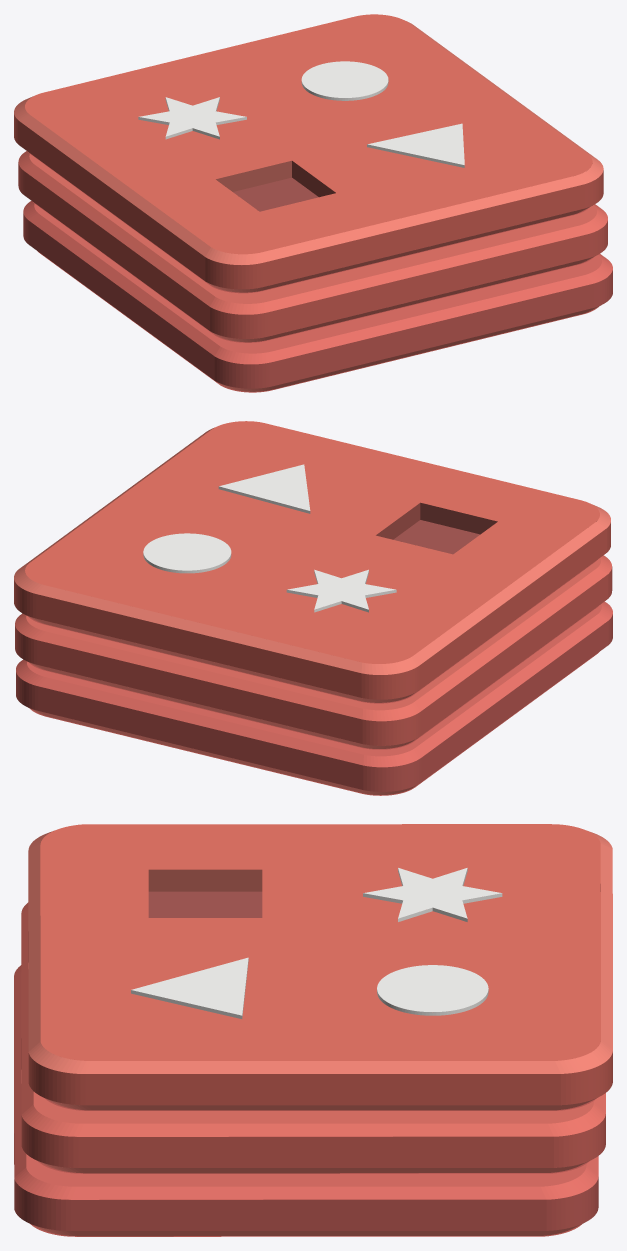
Rendered from redis.glb.
The picture shows the model from 3 angles, top to bottom: view 1: azimuth 30°, elevation 25°; view 2: azimuth 150°, elevation 25°; view 3: azimuth 270°, elevation 25°; orthographic projection. The views are drawn at different scales.
Parts seen in each view (by area): view 1: layer_03_top_top_face_cutout, layer_02_middle_vertical_wall, layer_03_top_vertical_wall, layer_01_bottom_vertical_wall, layer_02_middle_top_chamfer, layer_01_bottom_top_chamfer, layer_03_top_top_chamfer, circle_ivory_face, layer_01_bottom_bottom_chamfer, layer_01_bottom_underneath, layer_03_top_recess_bottom, layer_03_top_recess_wall_0 (+2 smaller); view 2: layer_03_top_top_face_cutout, layer_02_middle_vertical_wall, layer_01_bottom_vertical_wall, layer_03_top_vertical_wall, layer_02_middle_top_chamfer, layer_01_bottom_top_chamfer, layer_03_top_top_chamfer, circle_ivory_face, layer_01_bottom_bottom_chamfer, layer_01_bottom_underneath, layer_03_top_recess_bottom, layer_03_top_recess_wall_2 (+2 smaller); view 3: layer_03_top_top_face_cutout, layer_03_top_vertical_wall, layer_01_bottom_vertical_wall, layer_02_middle_vertical_wall, layer_01_bottom_top_chamfer, layer_02_middle_top_chamfer, layer_03_top_top_chamfer, circle_ivory_face, layer_01_bottom_bottom_chamfer, layer_03_top_recess_bottom, layer_03_top_recess_wall_0, layer_01_bottom_underneath (+1 smaller).
Part boxes in pixels (x1,y1,x2,y2): layer_03_top_top_face_cutout: [25, 14, 592, 254]; layer_02_middle_vertical_wall: [18, 162, 607, 338]; layer_03_top_vertical_wall: [14, 114, 603, 289]; layer_01_bottom_vertical_wall: [23, 213, 612, 388]; layer_02_middle_top_chamfer: [18, 151, 607, 314]; layer_01_bottom_top_chamfer: [23, 201, 612, 364]; layer_03_top_top_chamfer: [14, 20, 603, 264]; circle_ivory_face: [139, 61, 464, 164]; layer_01_bottom_bottom_chamfer: [207, 205, 600, 391]; layer_01_bottom_underneath: [27, 151, 598, 392]; layer_03_top_recess_bottom: [233, 177, 318, 211]; layer_03_top_recess_wall_0: [216, 160, 291, 191]; layer_03_top_top_face_cutout: [25, 421, 599, 663]; layer_02_middle_vertical_wall: [15, 566, 612, 745]; layer_01_bottom_vertical_wall: [16, 614, 612, 791]; layer_03_top_vertical_wall: [14, 521, 610, 699]; layer_02_middle_top_chamfer: [15, 555, 611, 721]; layer_01_bottom_top_chamfer: [16, 601, 612, 767]; layer_03_top_top_chamfer: [14, 427, 610, 674]; circle_ivory_face: [143, 464, 395, 609]; layer_01_bottom_bottom_chamfer: [27, 598, 608, 794]; layer_01_bottom_underneath: [28, 560, 598, 795]; layer_03_top_recess_bottom: [393, 520, 479, 554]; layer_03_top_recess_wall_2: [420, 502, 497, 534]; layer_03_top_top_face_cutout: [40, 824, 600, 1060]; layer_03_top_vertical_wall: [28, 931, 612, 1105]; layer_01_bottom_vertical_wall: [14, 1133, 598, 1230]; layer_02_middle_vertical_wall: [21, 1038, 605, 1167]; layer_01_bottom_top_chamfer: [14, 965, 598, 1199]; layer_02_middle_top_chamfer: [21, 902, 605, 1136]; layer_03_top_top_chamfer: [28, 830, 612, 1073]; circle_ivory_face: [131, 868, 501, 1015]; layer_01_bottom_bottom_chamfer: [21, 884, 600, 1236]; layer_03_top_recess_bottom: [148, 891, 262, 917]; layer_03_top_recess_wall_0: [148, 869, 262, 891]; layer_01_bottom_underneath: [30, 1073, 596, 1236].
Bounding box in the file's own units: 3.69 × 1.22 × 3.74.
